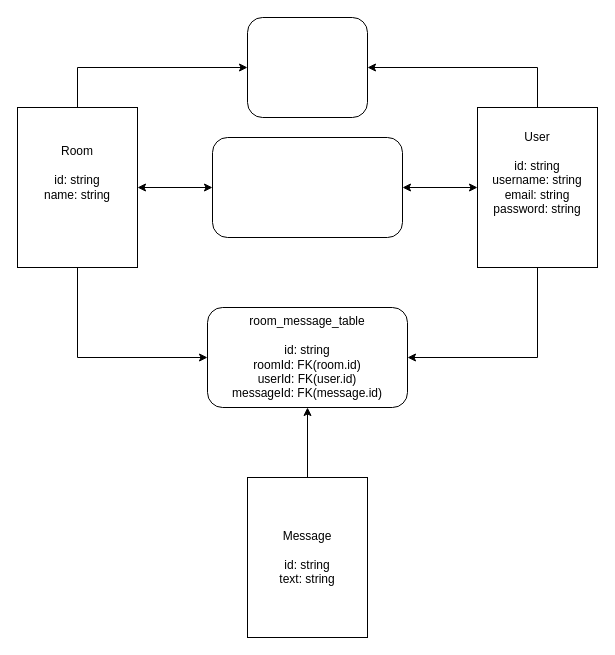
The diagram is 615 pixels wide and 655 high, and some of its shapes have lost their labels. Here are the shapes that lost their labels. From the top down, the centre of each, then its label:
At [307,67]: "room_owner_table id: string roomId: FK(room.id) ownerId: FK(user.id)".
At [307,187]: "user_joined_rooms_table id: string roomId: FK(room.id) userId: FK(user.id)".
